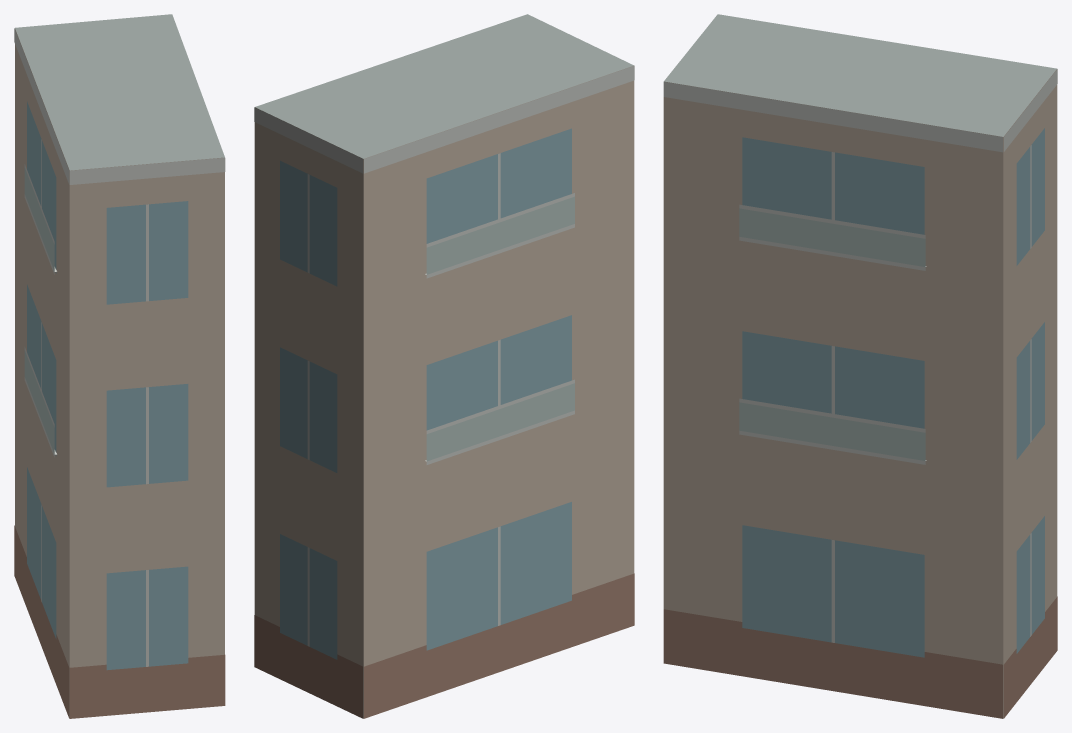
File: survey-upis-32945788.glb
3 renders of one model, left to right at view 1: azimuth 30°, elevation 25°; view 2: azimuth 150°, elevation 25°; view 3: azimuth 270°, elevation 25°, orthographic. The views are drawn at different scales.
Parts seen in each view (by area): view 1: survey-upis-32945788.tmp; view 2: survey-upis-32945788.tmp; view 3: survey-upis-32945788.tmp.
Part boxes in pixels (bbox=[...]): survey-upis-32945788.tmp: bbox=[14, 14, 225, 718]; survey-upis-32945788.tmp: bbox=[254, 14, 634, 718]; survey-upis-32945788.tmp: bbox=[663, 14, 1057, 718].
Size of the model in its own units: 4.15 by 9.15 by 5.62.
